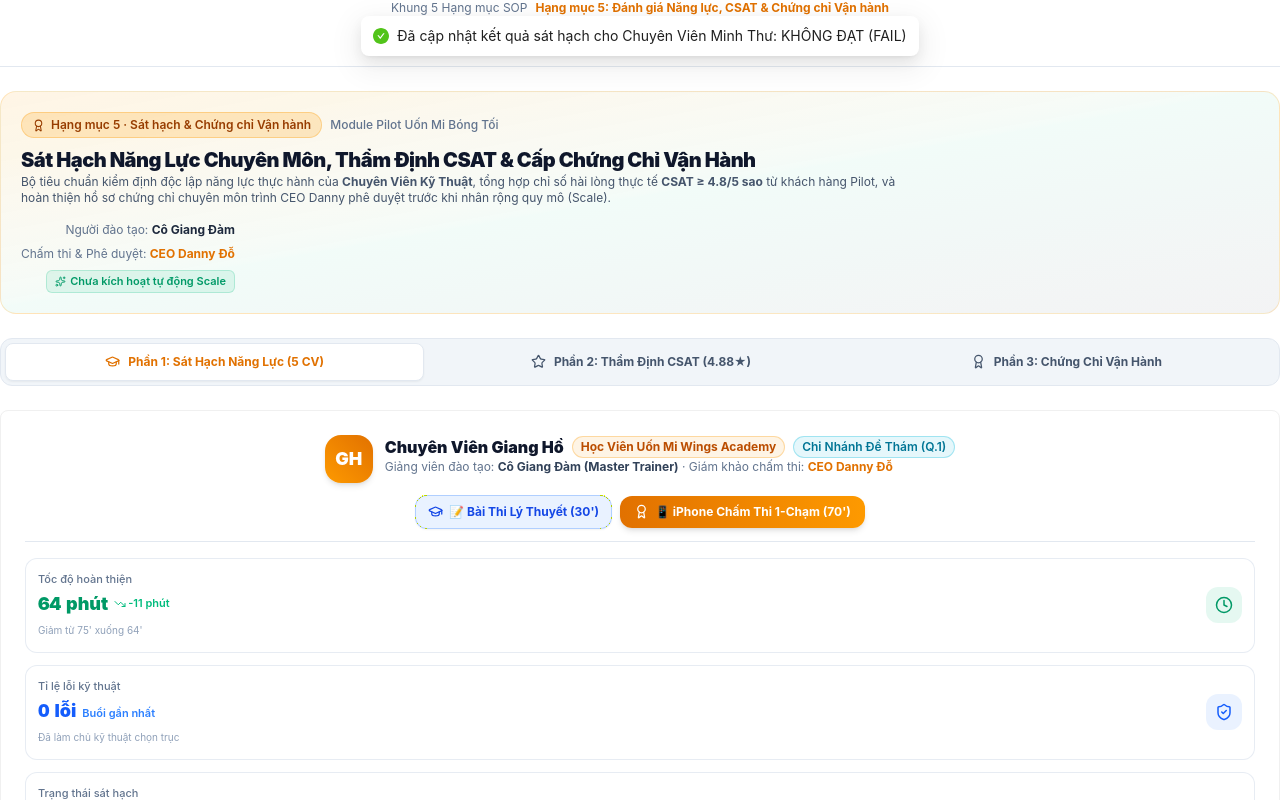
Scenario: PilotAssessmentCertSopDetail › switches to CSAT audit tab and displays metrics benchmarked against >= 4.8 stars
Switch to CSAT tab
Click the button with test id "tab-btn-csat" at (641, 362), box [432, 344, 850, 380]
(page scrolled)
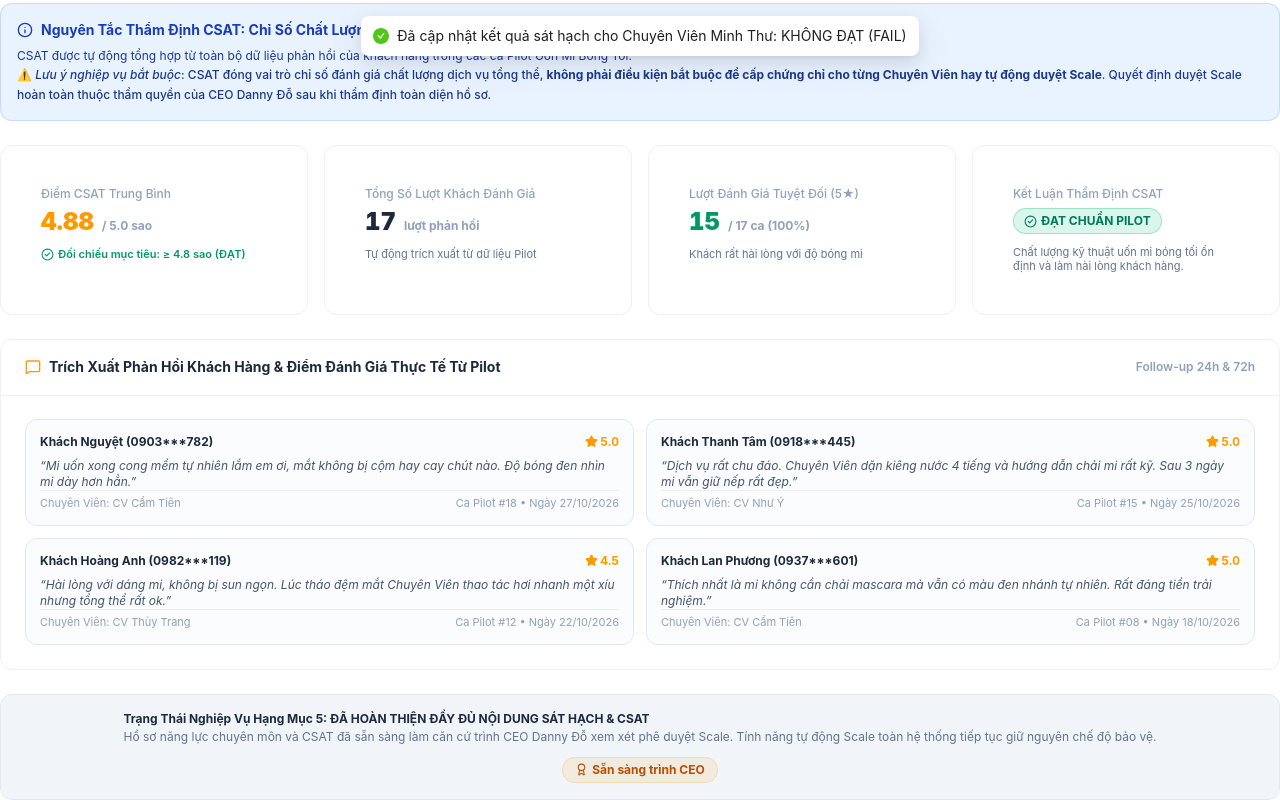
Result: the element with test id "section-csat-audit" is shown
Result: the text "Điểm CSAT Trung Bình" is shown at [41, 186, 171, 201]
Result: the text "Đối chiếu mục tiêu: ≥ 4.8 sao (ĐẠT)" is shown at [58, 246, 246, 263]
